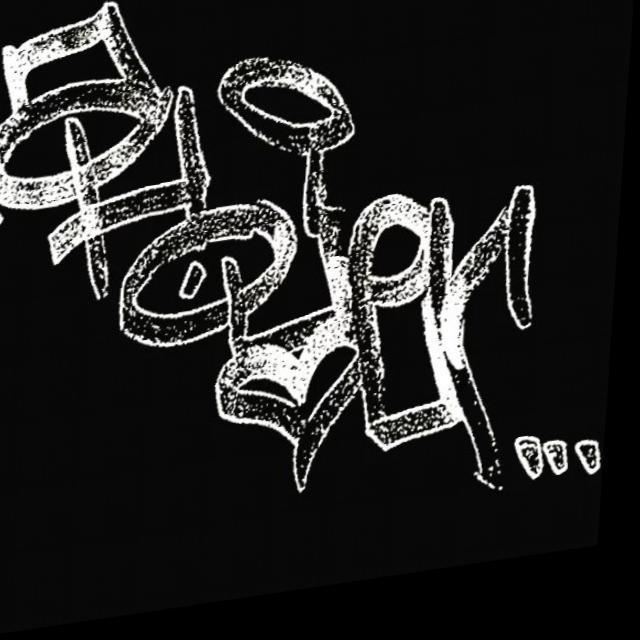-: (0, 0, 639, 579)
